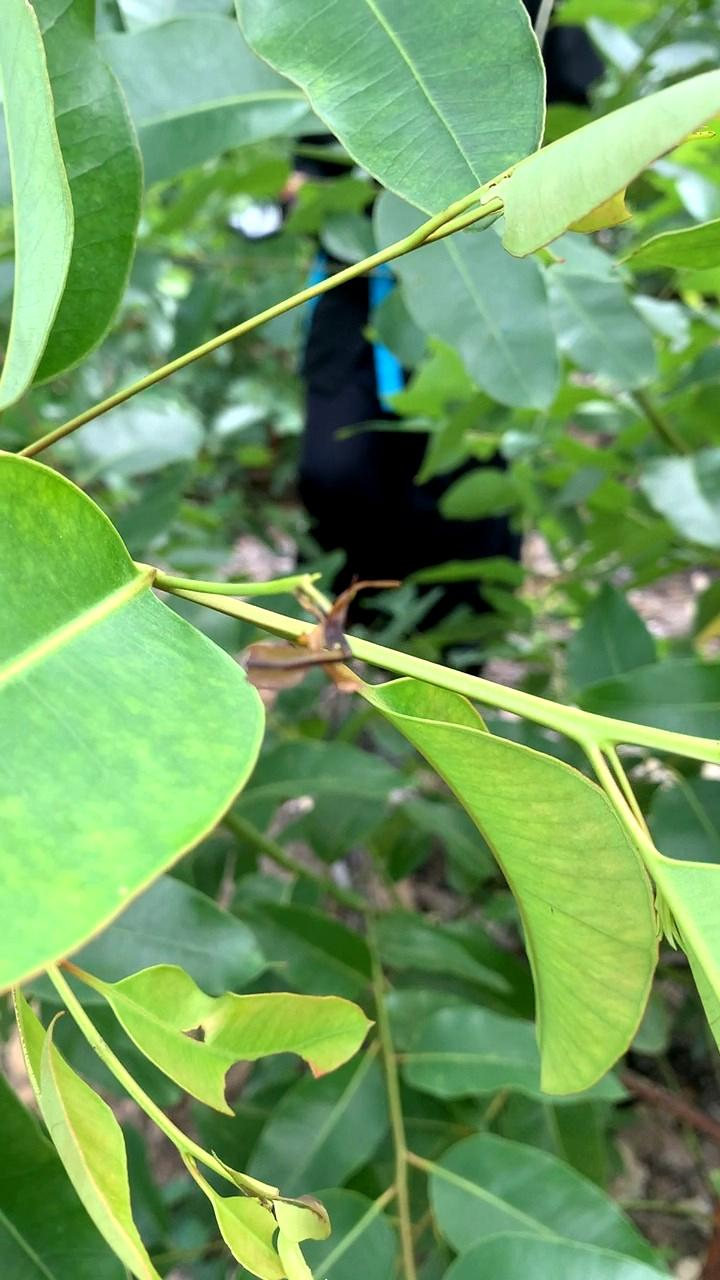Helopeltis-Withered Sprout: (251, 568, 405, 683)
